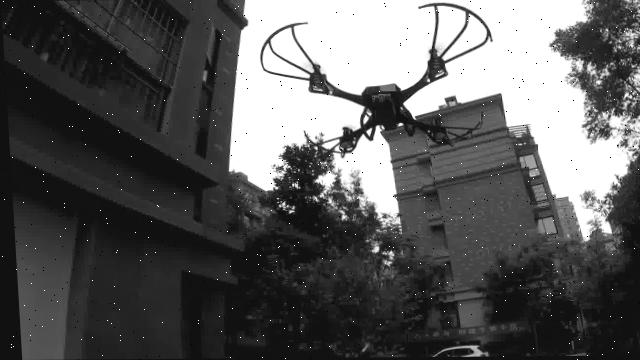drone: (258, 0, 504, 164)
